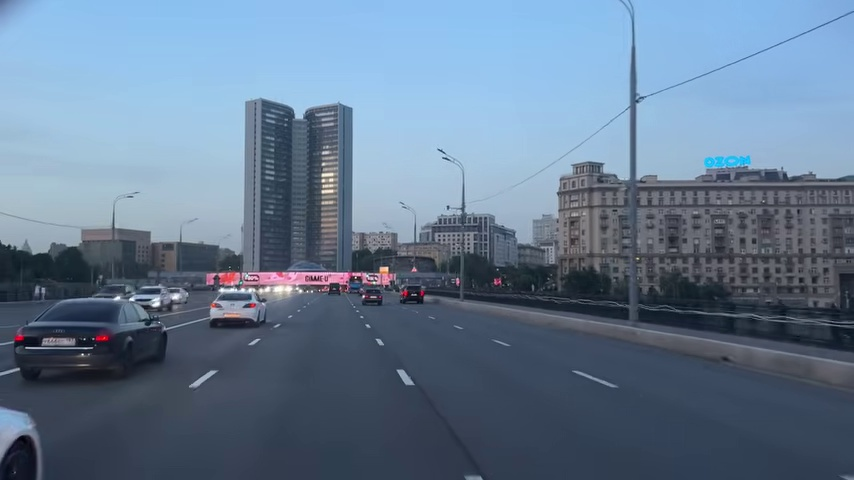apagada: (434, 146, 453, 167), (124, 189, 140, 202)
